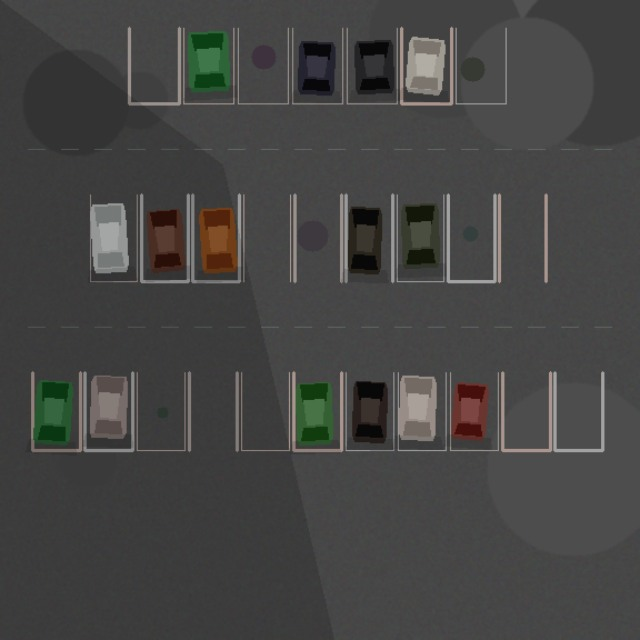space-empty: (243, 194, 290, 281), (294, 194, 341, 281), (499, 194, 546, 281), (448, 194, 494, 281), (129, 28, 179, 103), (238, 28, 288, 103), (456, 28, 506, 103), (189, 372, 237, 450), (241, 372, 289, 450), (502, 372, 550, 450), (554, 372, 602, 450), (137, 372, 184, 450)
space-occupied: (90, 194, 137, 281), (141, 194, 188, 281), (192, 194, 239, 281), (346, 194, 392, 281), (397, 194, 443, 281), (183, 28, 233, 103), (292, 28, 342, 103), (347, 28, 397, 103), (401, 28, 451, 103), (32, 372, 80, 450), (84, 372, 132, 450), (293, 372, 341, 450), (398, 372, 446, 450), (450, 372, 498, 450), (346, 372, 393, 450)
